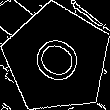O_SE: (25, 27, 89, 90)
